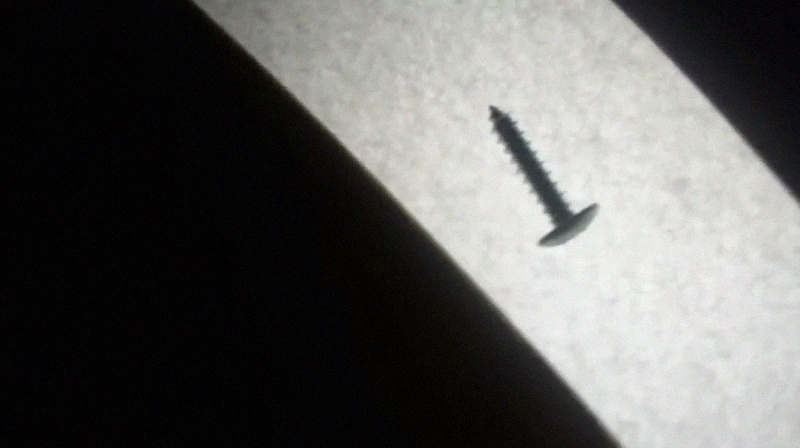S003: (484, 100, 600, 251)
